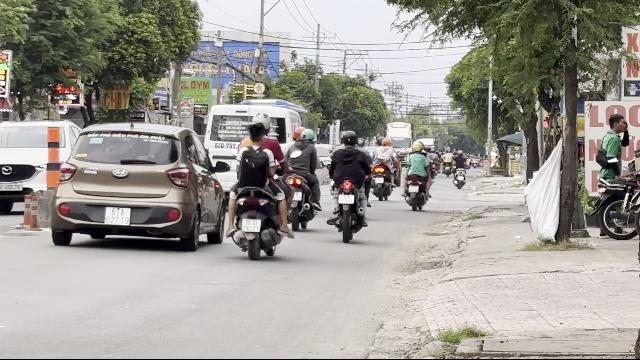helmet: (252, 112, 272, 134), (340, 130, 358, 146)
licenseplate: (242, 220, 260, 232), (338, 195, 354, 204)
motorcyclist: (224, 109, 290, 258), (326, 131, 372, 242)
nohelmet: (248, 123, 268, 143)
